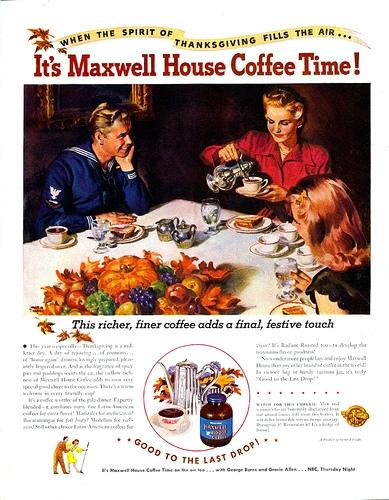apple: (165, 283, 191, 309), (67, 290, 88, 311), (182, 275, 202, 296), (115, 302, 141, 314), (115, 290, 132, 306)
grape: (99, 292, 110, 302), (102, 300, 112, 310), (166, 279, 174, 286), (164, 272, 172, 278), (64, 305, 70, 313), (91, 308, 98, 314), (97, 289, 104, 295), (135, 286, 142, 292), (148, 294, 155, 300), (162, 277, 169, 283), (98, 302, 103, 310), (148, 302, 154, 308), (128, 294, 134, 299), (92, 302, 98, 307), (138, 296, 144, 300), (90, 294, 96, 298), (82, 280, 88, 284), (90, 286, 96, 290), (167, 276, 171, 280), (88, 284, 92, 288), (146, 290, 150, 294), (160, 274, 164, 278)
pumpkin: (97, 254, 160, 297)
